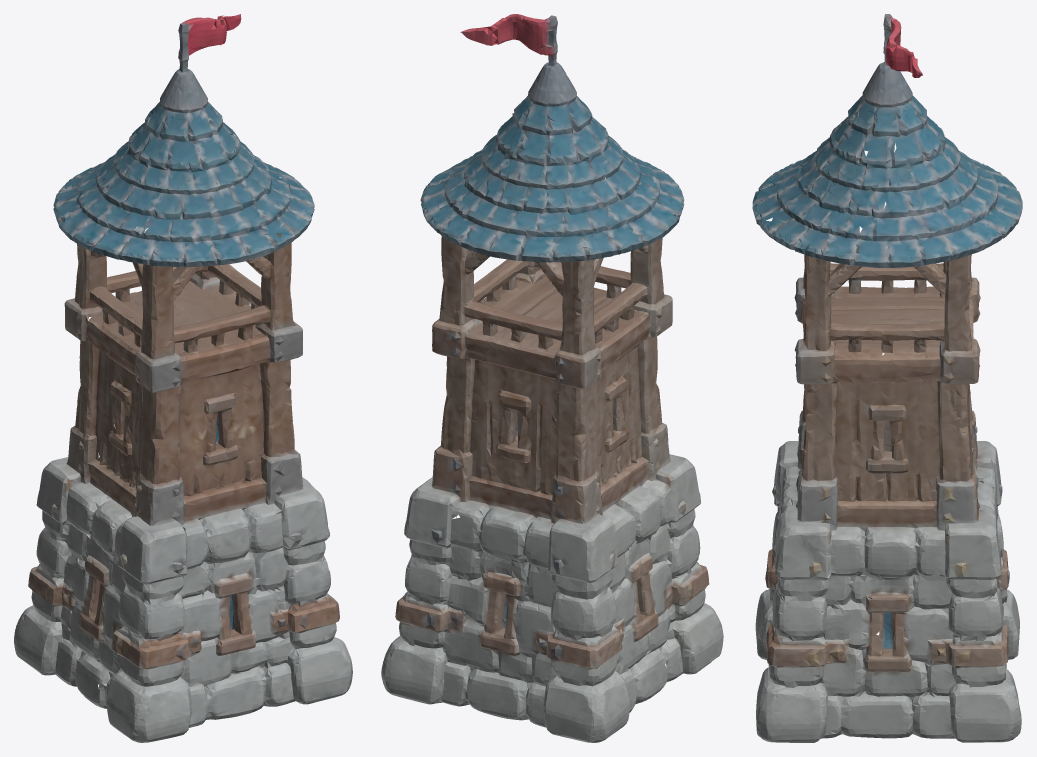
Rendered from building_watchtower_lod0.glb.
The picture shows the model from 3 angles, left to right: view 1: azimuth 30°, elevation 25°; view 2: azimuth 150°, elevation 25°; view 3: azimuth 270°, elevation 25°; orthographic projection. The views are drawn at different scales.
Visible parts, largest first — view 1: world; view 2: world; view 3: world.
Boxes of the visible parts, x1,y1,x2,y2 form: world: (14, 14, 352, 742); world: (381, 14, 723, 742); world: (752, 14, 1022, 742).
Size of the model in its own units: 0.6878 by 1.9 by 0.6879.
